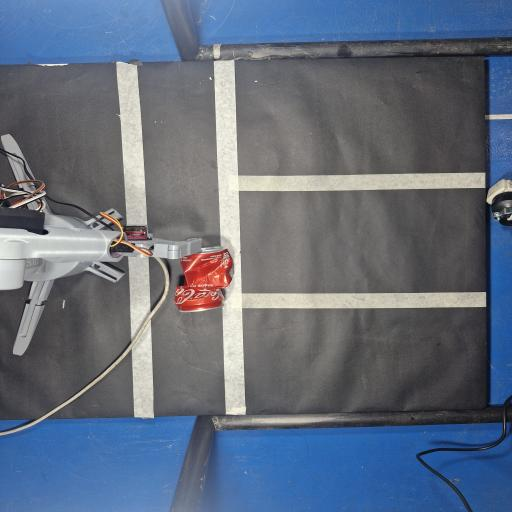lata_defectuoso: (175, 247, 232, 310)
